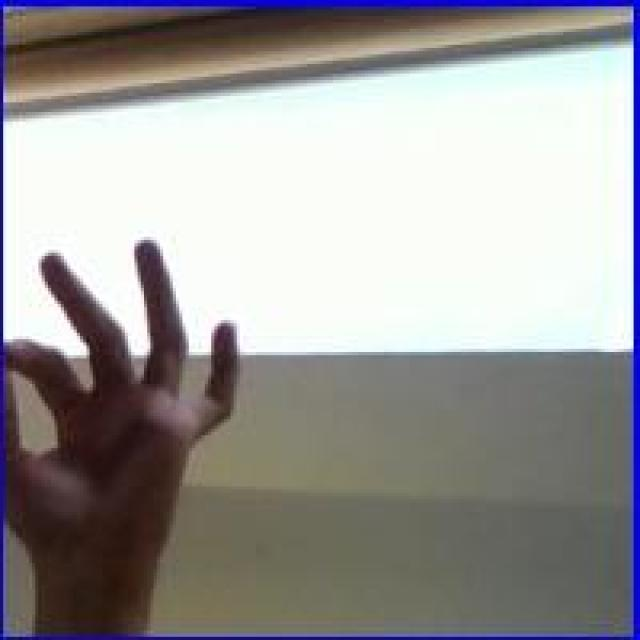F: (10, 228, 240, 614)
